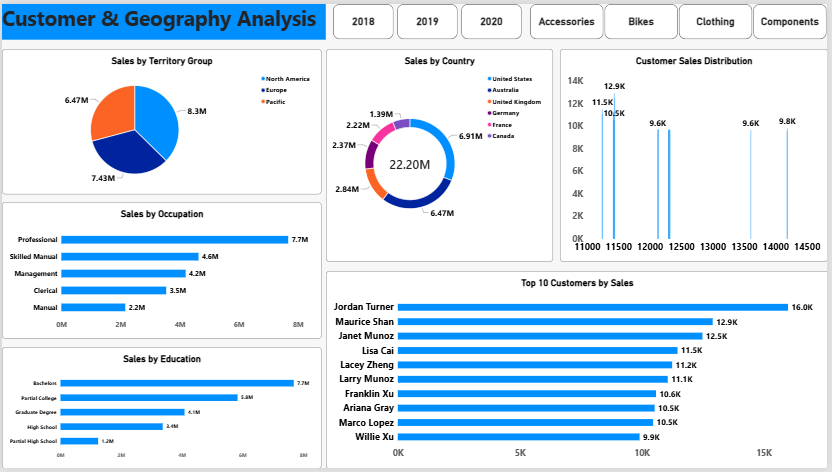

The dashboard page shown, as its layout file describes it:
{"tool":"powerbi","page":{"name":"Customer & Geography Analysis","canvas":[1920,1080],"ordinal":2},"visuals":[{"type":"textbox","box":[0,0,752.5,82.5],"z":0},{"type":"advancedSlicerVisual","fields":{"Values":["Dim_Date.Year"]},"box":[770,0,440,82.5],"z":1},{"type":"advancedSlicerVisual","fields":{"Values":["Dim_Products.ProductCategoryName"]},"box":[1227.5,0,692.5,82.5],"z":2},{"type":"clusteredBarChart","title":"Top 10 Customers by Sales","fields":{"Category":["Dim_Customers.Full Name"],"Y":["Measures (2).Total Sales"]},"box":[752.5,620,1167.5,460],"z":3},{"type":"clusteredBarChart","title":"Sales by Occupation","fields":{"Category":["Dim_Customers.EnglishOccupation"],"Y":["Measures (2).Total Sales"]},"box":[0,460,742.5,317.5],"z":4},{"type":"clusteredBarChart","title":"Sales by Education","fields":{"Category":["Dim_Customers.EnglishEducation"],"Y":["Measures (2).Total Sales"]},"box":[0,797.5,742.5,282.5],"z":5},{"type":"clusteredColumnChart","title":"Customer Sales Distribution","fields":{"Category":["Dim_Customers.CustomerKey"],"Y":["Measures (2).Total Sales"]},"box":[1297.5,105,622.5,495],"z":6},{"type":"donutChart","title":"Sales by Country","fields":{"Category":["Fact_Sales.SalesTerritoryCountry"],"Y":["Measures (2).Total Sales"]},"box":[752.5,105,527.5,495],"z":7},{"type":"pieChart","title":"Sales by Territory Group","fields":{"Category":["Fact_Sales.SalesTerritoryGroup"],"Y":["Measures (2).Total Sales"]},"box":[0,105,742.5,337.5],"z":8}]}

Visuals, with their boxes in screenshot pixels (x1, y1, x2, y2), scaled from the page's 1920x1080 canvas onto the 832x472 screenshot:
textbox: 0,0,326,36
advancedSlicerVisual - Dim_Date.Year: 334,0,524,36
advancedSlicerVisual - Dim_Products.ProductCategoryName: 532,0,831,36
"Top 10 Customers by Sales" clusteredBarChart: 326,271,831,471
"Sales by Occupation" clusteredBarChart: 0,201,322,340
"Sales by Education" clusteredBarChart: 0,349,322,471
"Customer Sales Distribution" clusteredColumnChart: 562,46,831,262
"Sales by Country" donutChart: 326,46,555,262
"Sales by Territory Group" pieChart: 0,46,322,193
